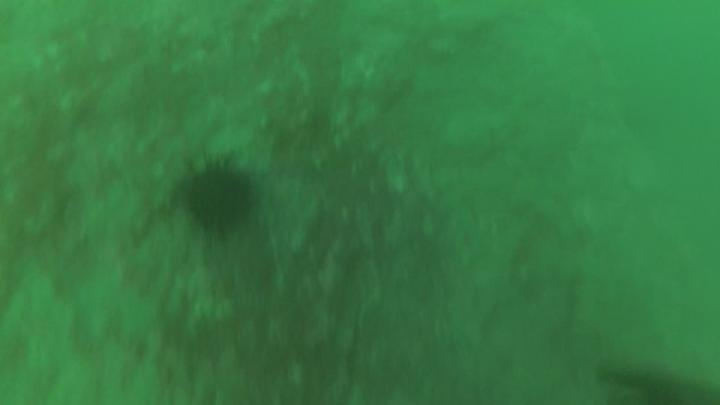echinus: (190, 167, 253, 228)
